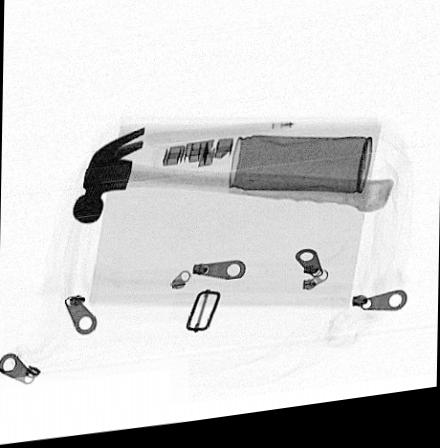Hammer: (72, 130, 394, 226)
